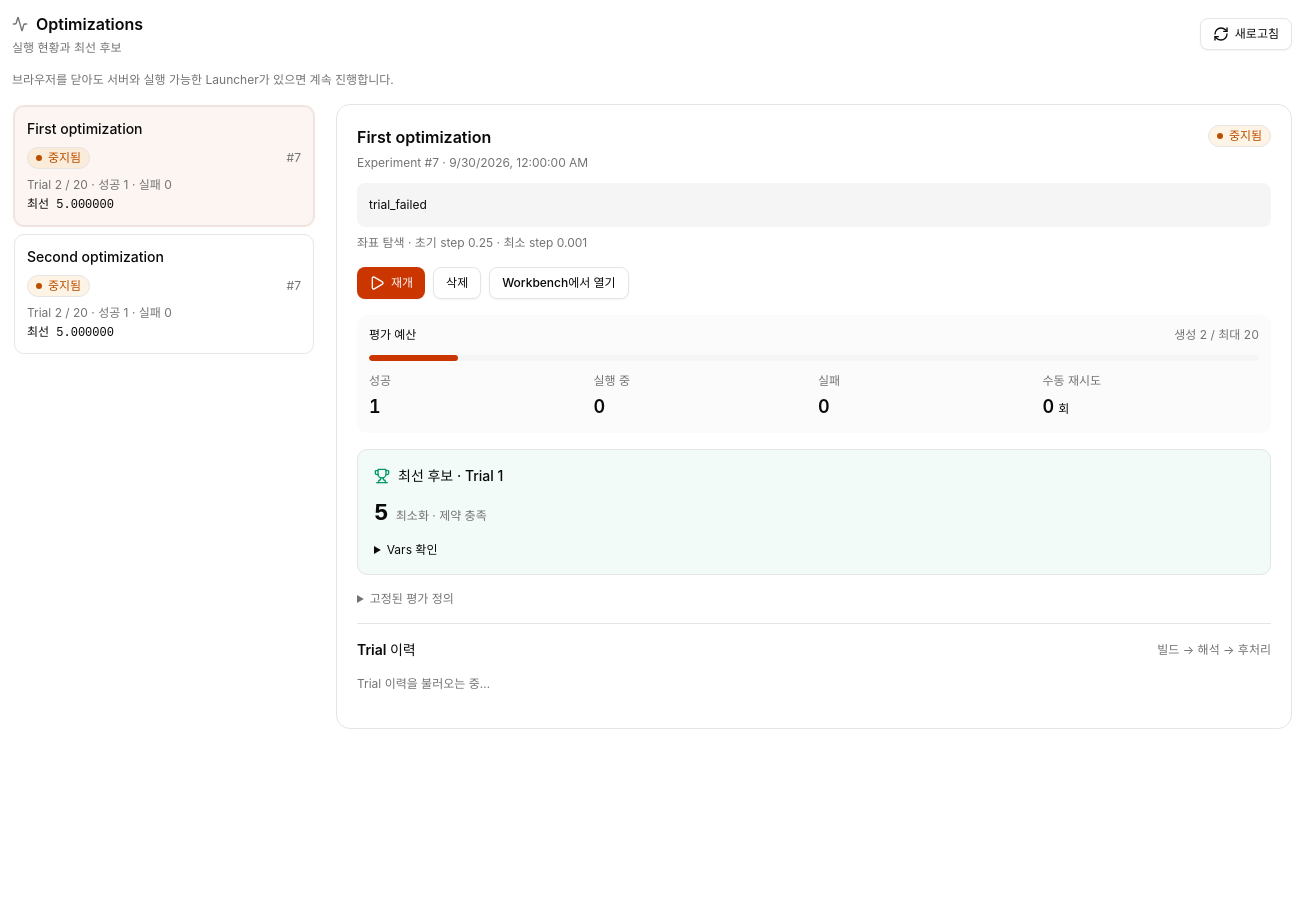
scopes pending requests and late errors to their target Optimization
This screenshot has width=1304, height=912.
What coordinates should you click on to do the following:
click the button "재개"
I would click on:
 (391, 282)
Its box is [357,266,425,298].
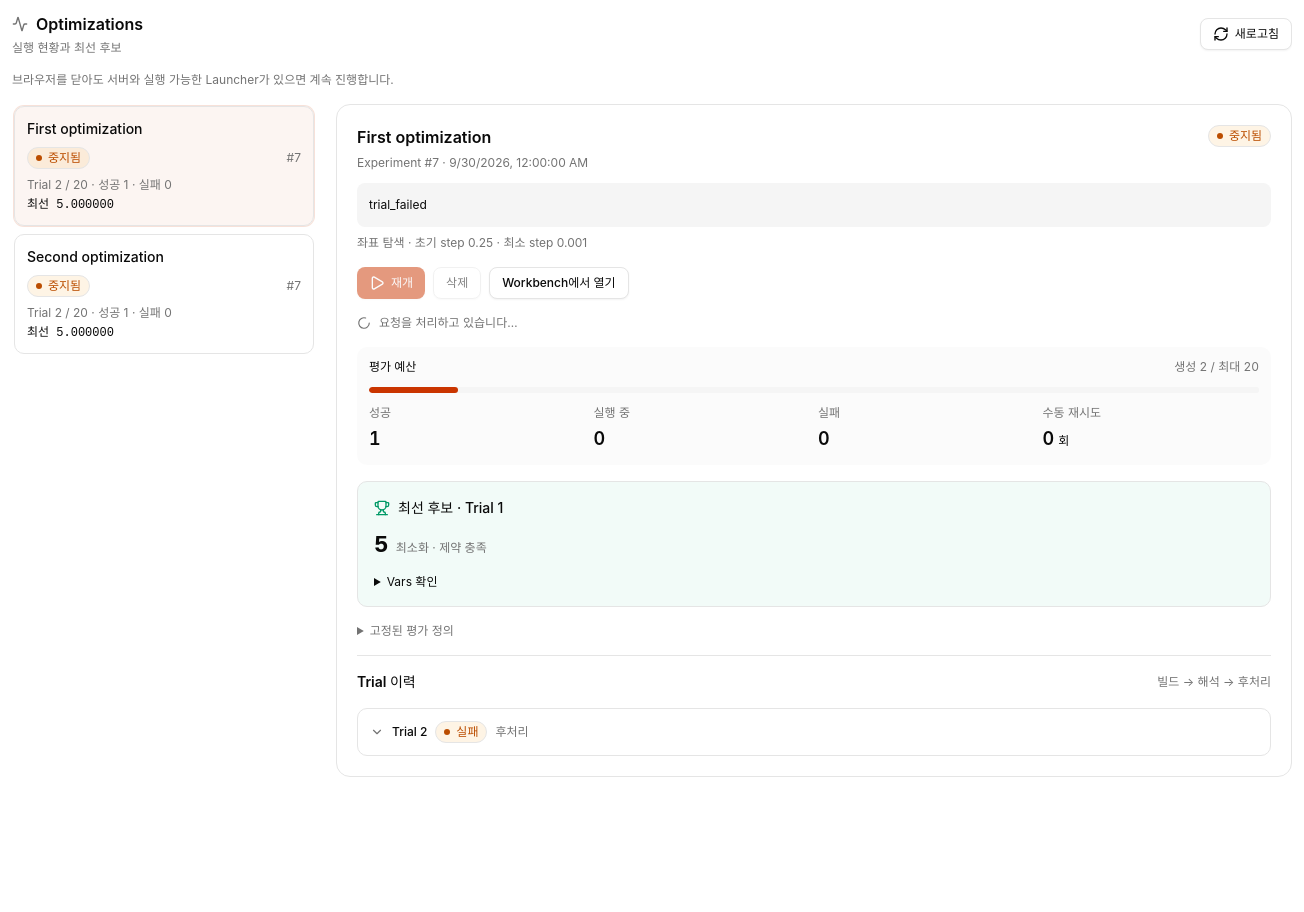
Check: the button "재개" is disabled, box [357,266,425,298]
Check: the text "요청을 처리하고 있습니다…" is shown, box [357,314,518,330]
What coordinates should you click on to do the following:
click the button "Second optimization"
I would click on:
 (95, 256)
Its box is [14,234,314,354].
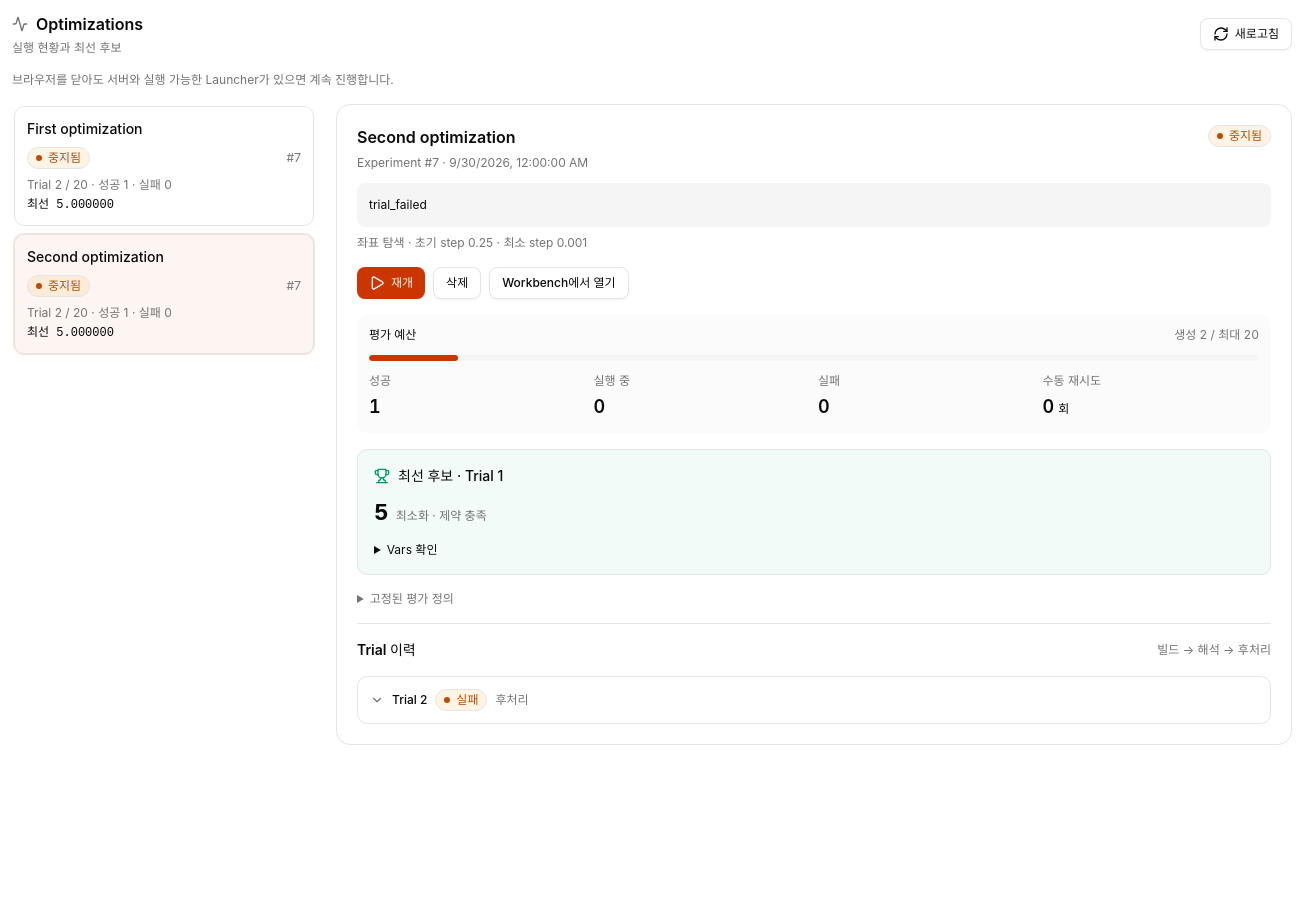
Check: the text "First request failed" is not shown
Check: the button "재개" is enabled, box [357,266,425,298]
Check: the text "요청을 처리하고 있습니다…" is gone
What coordinates should you click on to do the following:
click the button "First optimization"
I would click on:
 (85, 128)
Its box is [14,106,314,226].
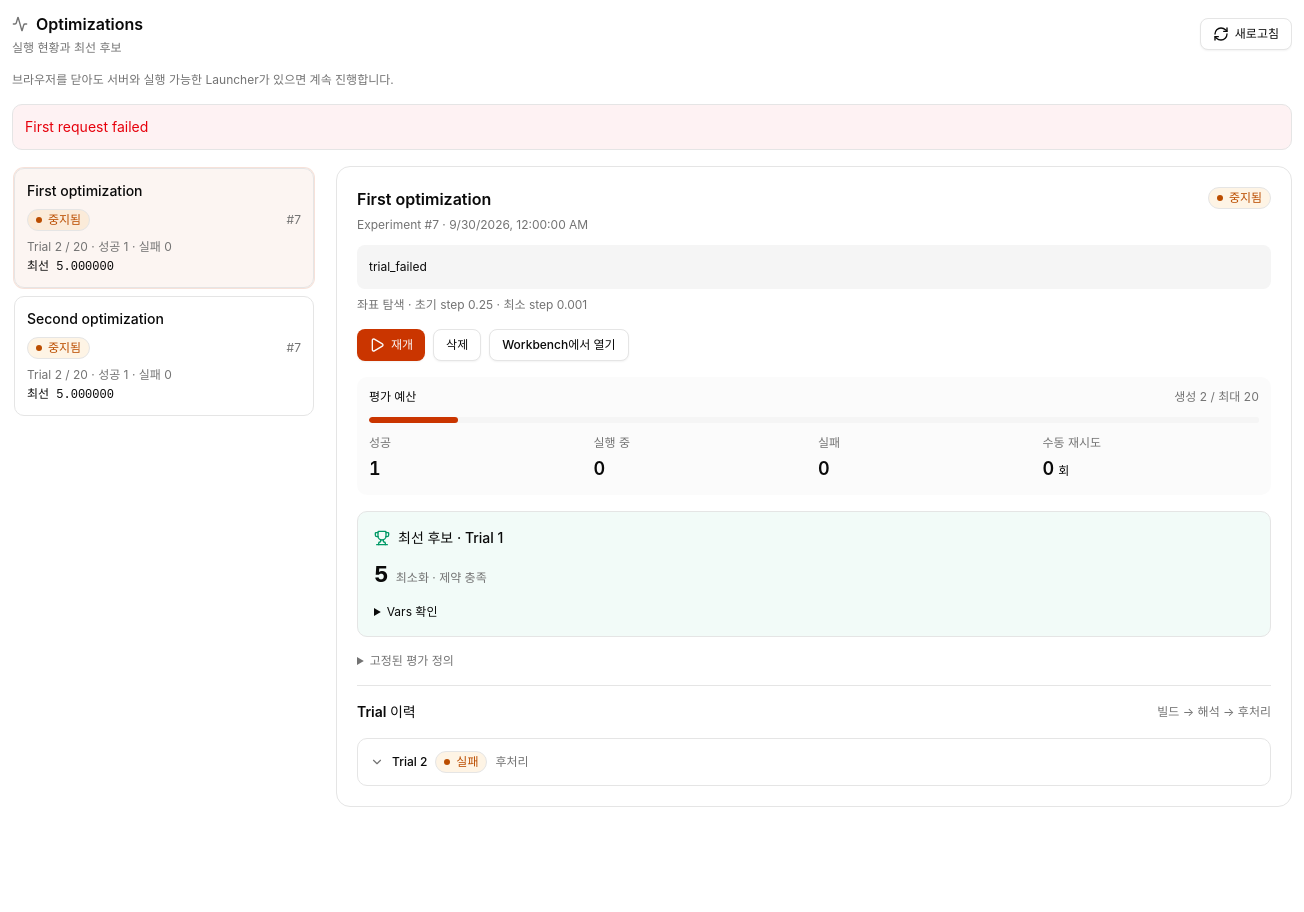
Check: the text "First request failed" is shown, box [12,104,1292,150]
